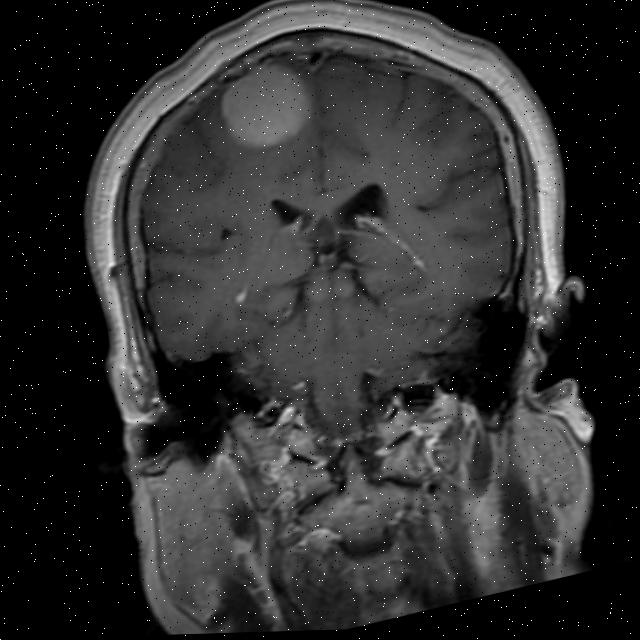Meningioma: (211, 51, 320, 160)
